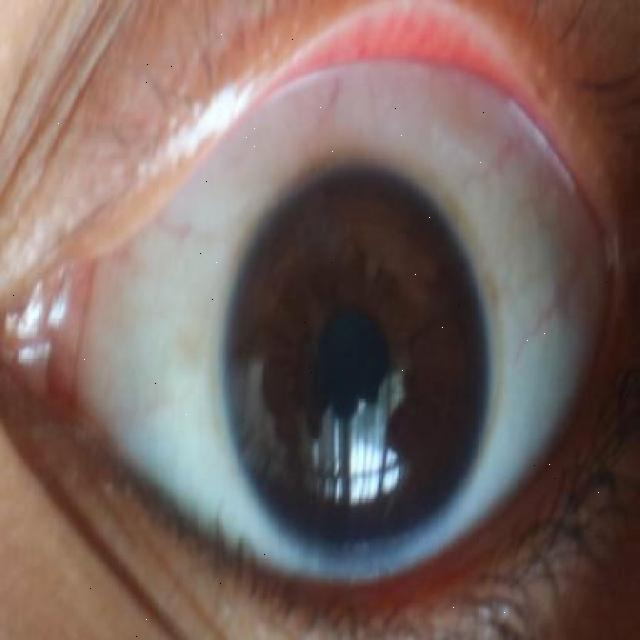Normal: (214, 161, 496, 557)
